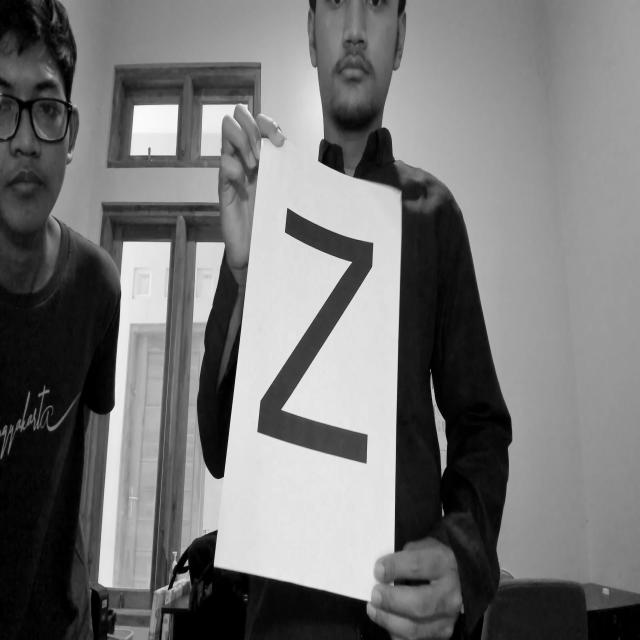z: (254, 194, 380, 473)
